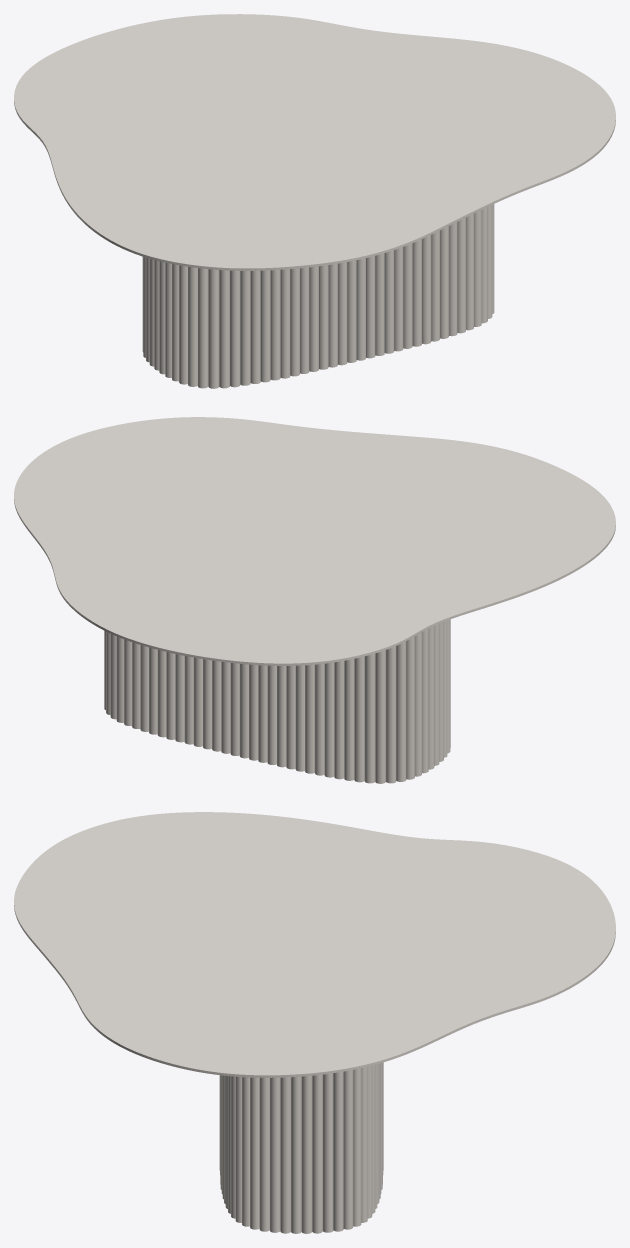
Rendered from pearlwhite_topone_facet_newtable.glb.
3 renders of one model, top to bottom at view 1: azimuth 30°, elevation 25°; view 2: azimuth 150°, elevation 25°; view 3: azimuth 270°, elevation 25°, orthographic. The views are drawn at different scales.
Parts seen in each view (by area): view 1: facet_topone, newtable; view 2: facet_topone, newtable; view 3: facet_topone, newtable.
Part boxes in pixels (x1,y1,x2,y2): facet_topone: [14, 14, 615, 270]; newtable: [142, 204, 494, 388]; facet_topone: [14, 417, 615, 665]; newtable: [104, 619, 450, 783]; facet_topone: [14, 812, 615, 1077]; newtable: [219, 1062, 383, 1233].
Size of the model in its own units: 6.83 by 2.5 by 6.6.
2 materials, 2 textured.
